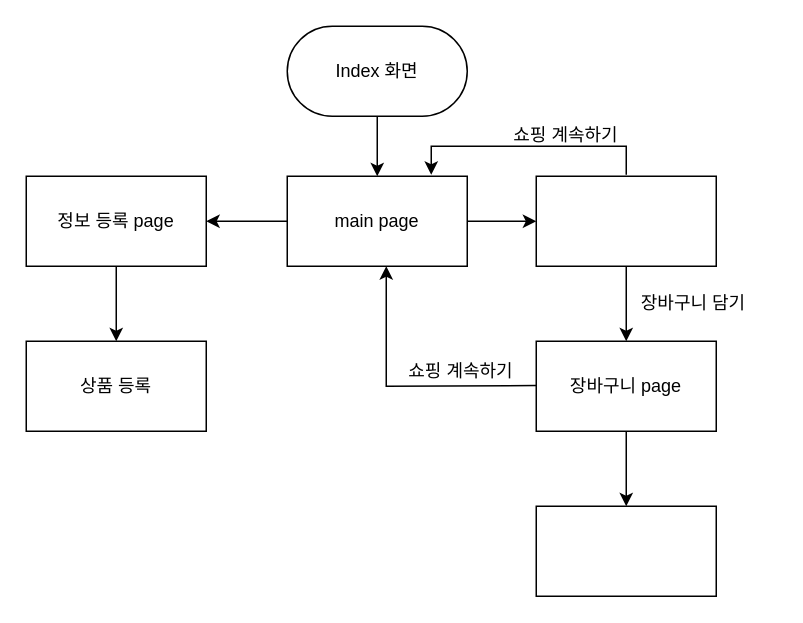
Some shapes in this 803 by 623 pixel diagram are drawn without their labels. Each missing label, with the box of its shape:
삭제: (535, 505, 716, 596)
상세정보 page: (535, 175, 716, 266)
